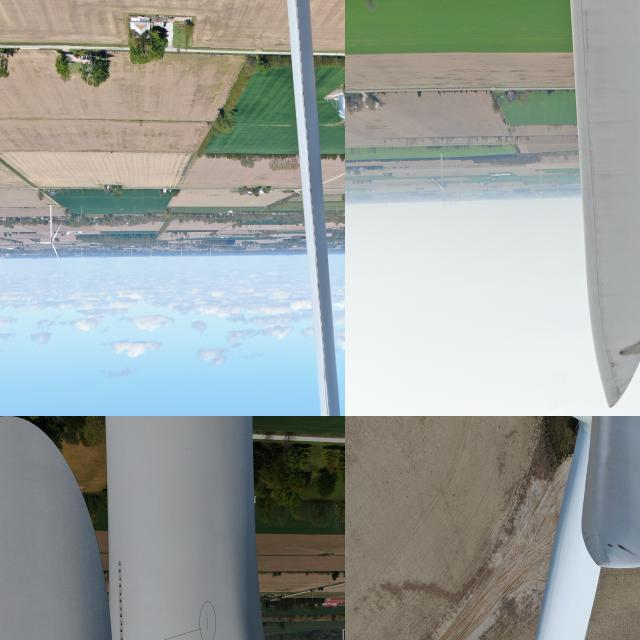damage: (614, 538, 639, 560), (618, 348, 624, 358)
